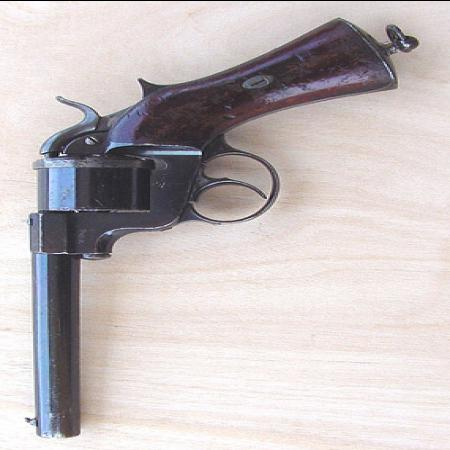Pistol: (21, 20, 390, 441)
